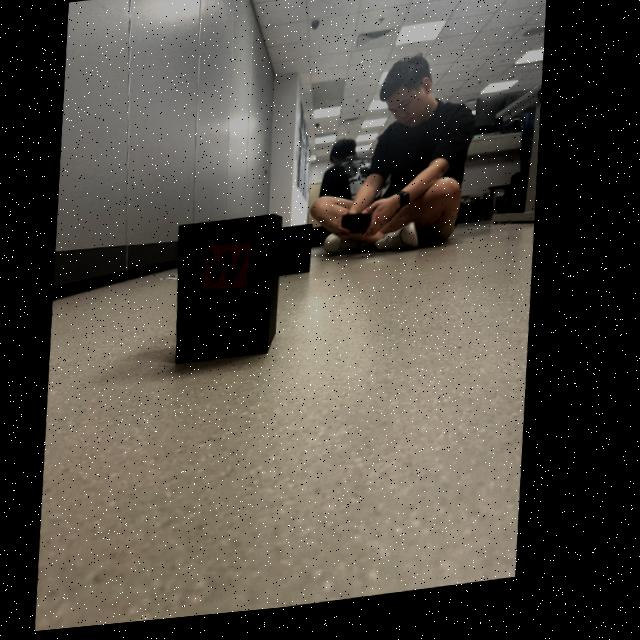W: (212, 255, 253, 288)
